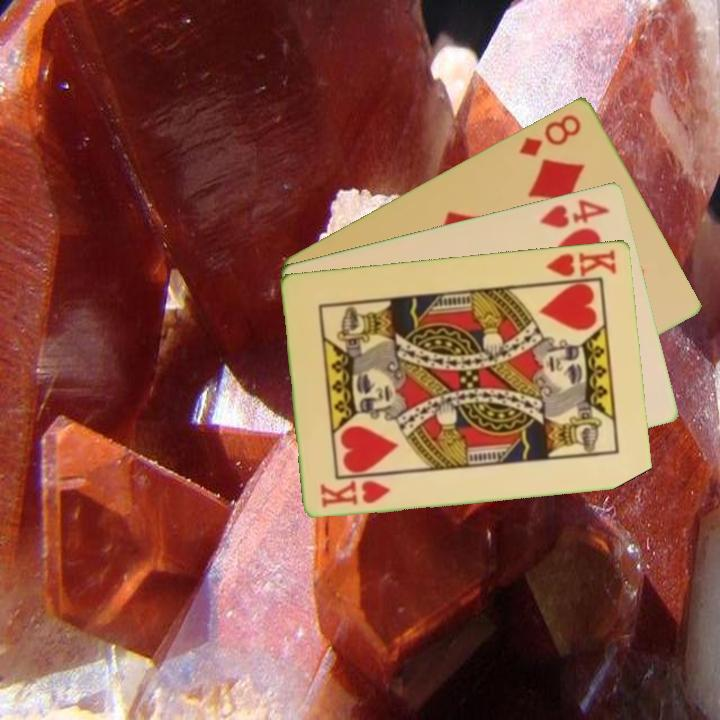4h: (537, 195, 613, 231)
8d: (516, 110, 584, 159)
Kh: (539, 245, 620, 285), (317, 476, 394, 510)
